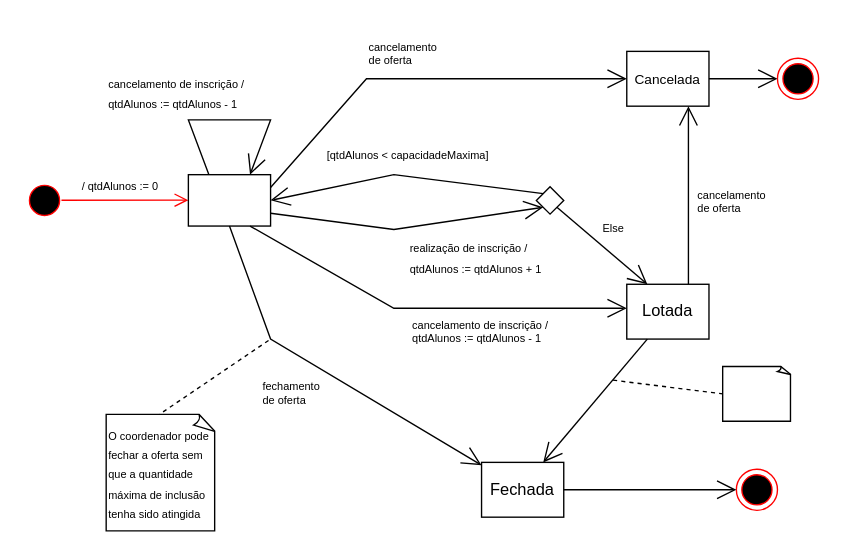
The diagram is 843 pixels wide and 555 high, and some of its shapes have lost their labels. Here are the shapes that lost their labels. From the top down, the centre of each, then its label:
At (229,199): "Aberta".
At (756,393): "Transição automática".
